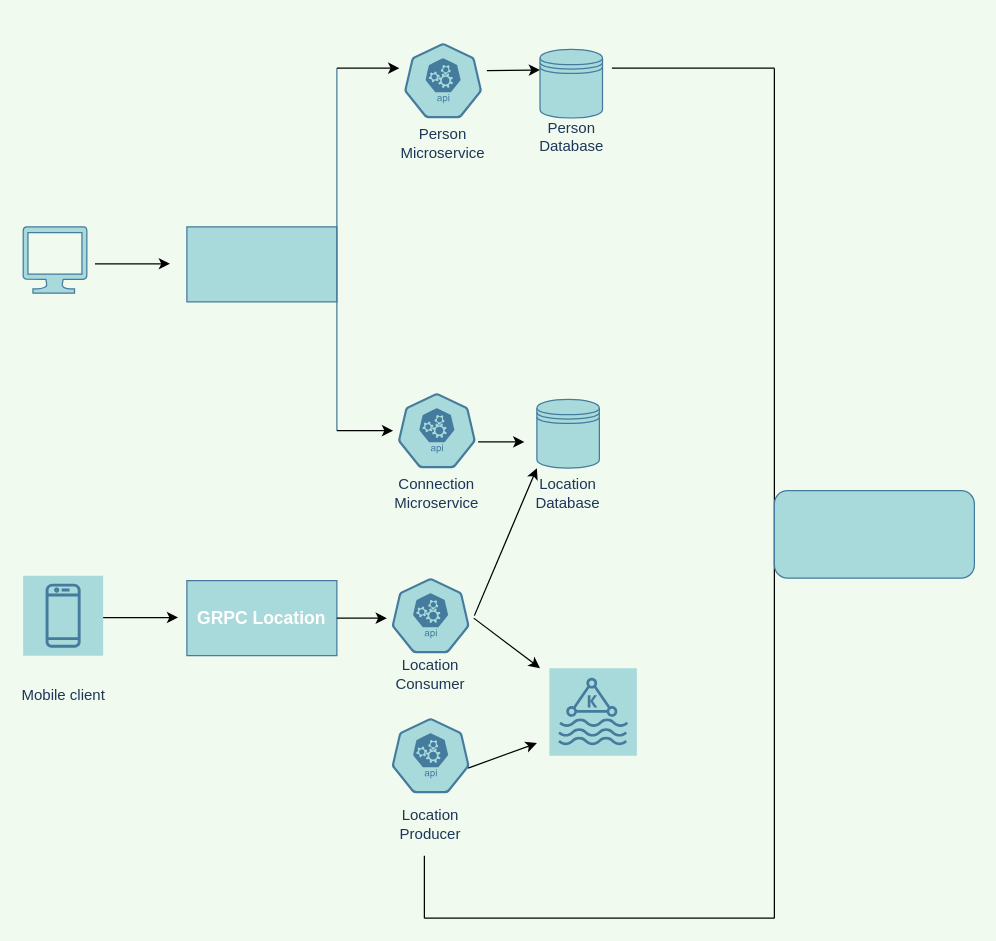
The diagram is 996 pixels wide and 941 high, and some of its shapes have lost their labels. Here are the shapes that lost their labels. From the top down, the centre of each, then its label:
the point at 261,264: RestApi
the point at 873,533: Check if an user sending a location exists. Get /api/person/{id}
